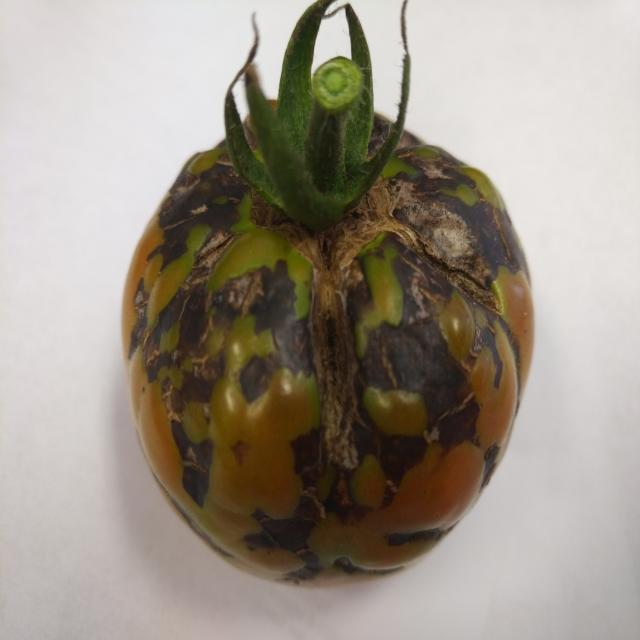Wet Waste: (109, 76, 589, 594)
